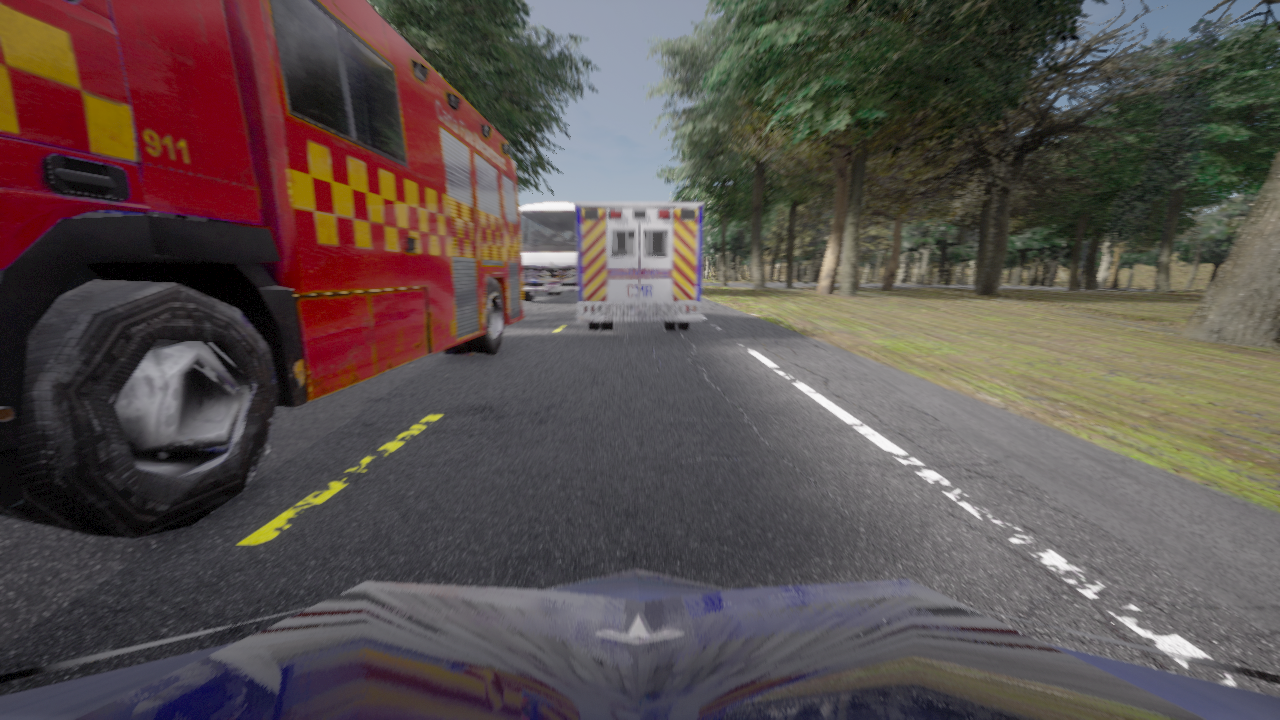cyclist: (0, 569, 1279, 719), (576, 202, 703, 330), (519, 202, 577, 301)
